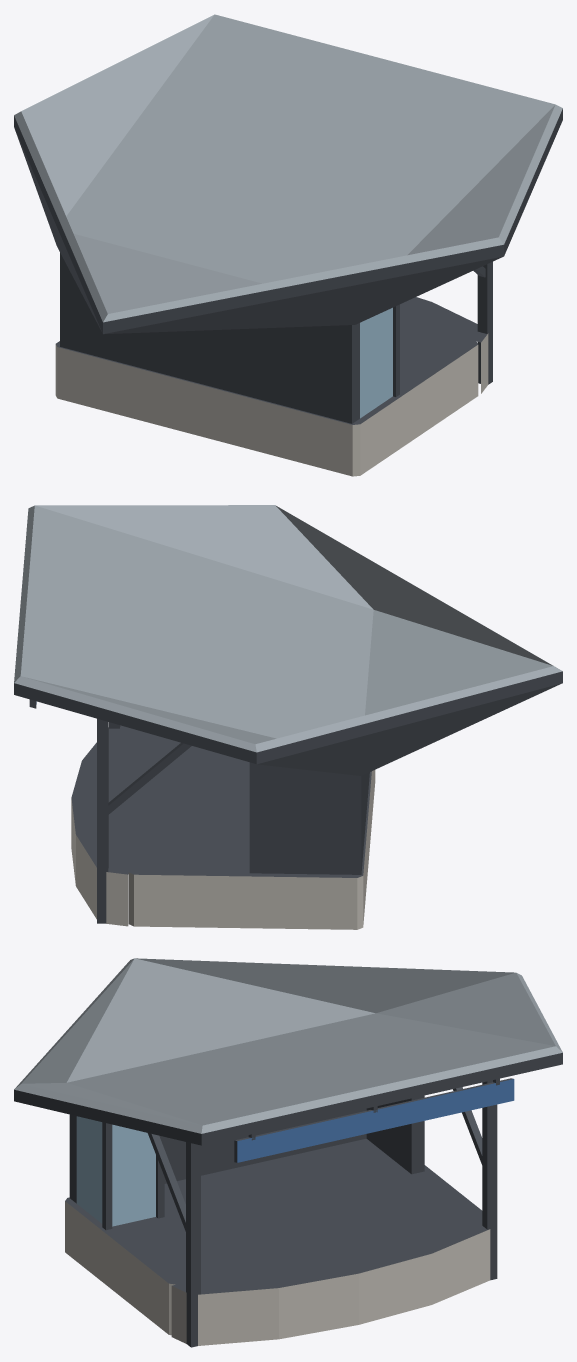
The model's file is detail.glb.
3 views of the same model, one above another, from view 1: azimuth 30°, elevation 25°; view 2: azimuth 150°, elevation 25°; view 3: azimuth 270°, elevation 25° (orthographic).
Visible parts, largest first — view 1: skyla-credit-union-amphitheatre; view 2: skyla-credit-union-amphitheatre; view 3: skyla-credit-union-amphitheatre.
Boxes of the visible parts, x1,y1,x2,y2 form: skyla-credit-union-amphitheatre: (14,14,562,476); skyla-credit-union-amphitheatre: (14,505,562,929); skyla-credit-union-amphitheatre: (14,958,562,1347).
Size of the model in its own units: 30.9 by 15.27 by 29.77.
